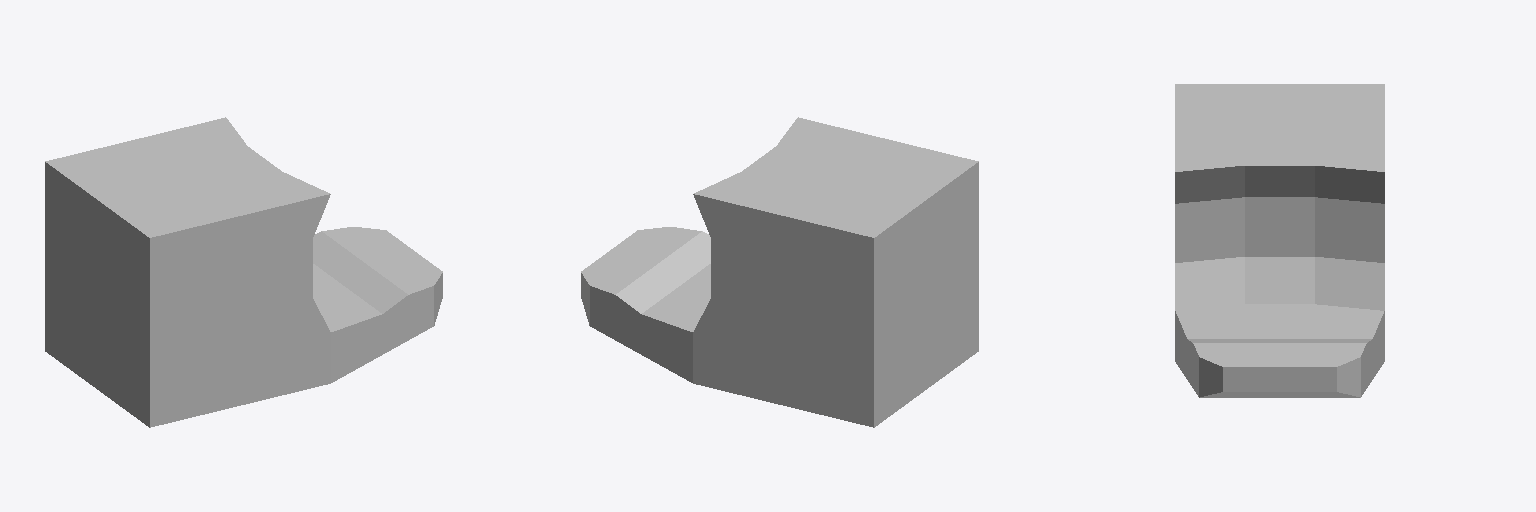
3 renders of one model, left to right at view 1: azimuth 30°, elevation 25°; view 2: azimuth 150°, elevation 25°; view 3: azimuth 270°, elevation 25°, orthographic.
Visible parts, largest first — view 1: Reciever; view 2: Reciever; view 3: Reciever.
Part boxes in pixels (bbox=[...]): Reciever: bbox=[45, 117, 442, 427]; Reciever: bbox=[581, 117, 978, 427]; Reciever: bbox=[1175, 84, 1384, 397].
Bounding box in the file's own units: 3.5 × 2 × 2.